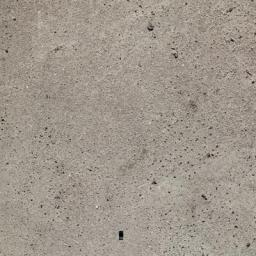FOD: (118, 230, 127, 244)
